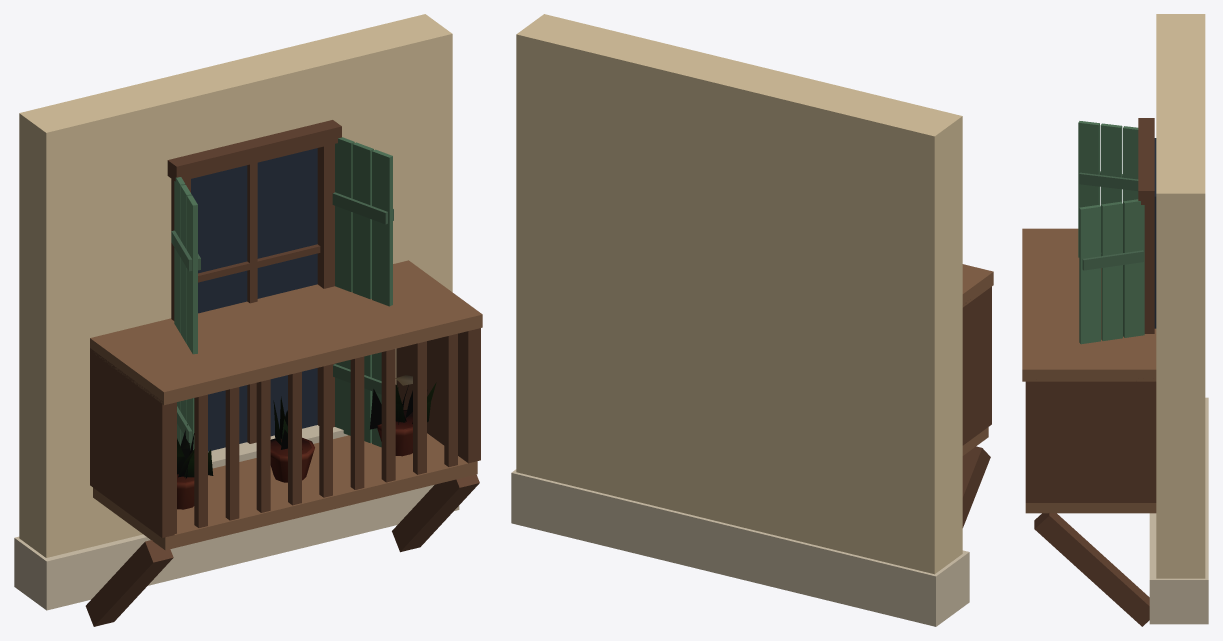
Rendered from balcon_madera.glb.
3 views of the same model, side by side, from view 1: azimuth 30°, elevation 25°; view 2: azimuth 150°, elevation 25°; view 3: azimuth 270°, elevation 25° (orthographic). The views are drawn at different scales.
Parts seen in each view (by area): view 1: balcon_madera_fijo, balcon_madera_piezas, balcon_madera_vegetacion; view 2: balcon_madera_fijo; view 3: balcon_madera_fijo.
Boxes of the visible parts, x1,y1,x2,y2 form: balcon_madera_fijo: (14,14,482,626); balcon_madera_piezas: (177,410,412,509); balcon_madera_vegetacion: (177,375,436,478); balcon_madera_fijo: (511,14,993,626); balcon_madera_fijo: (1022,14,1208,626).
Size of the model in its own units: 2.64 by 3.05 by 1.14.
